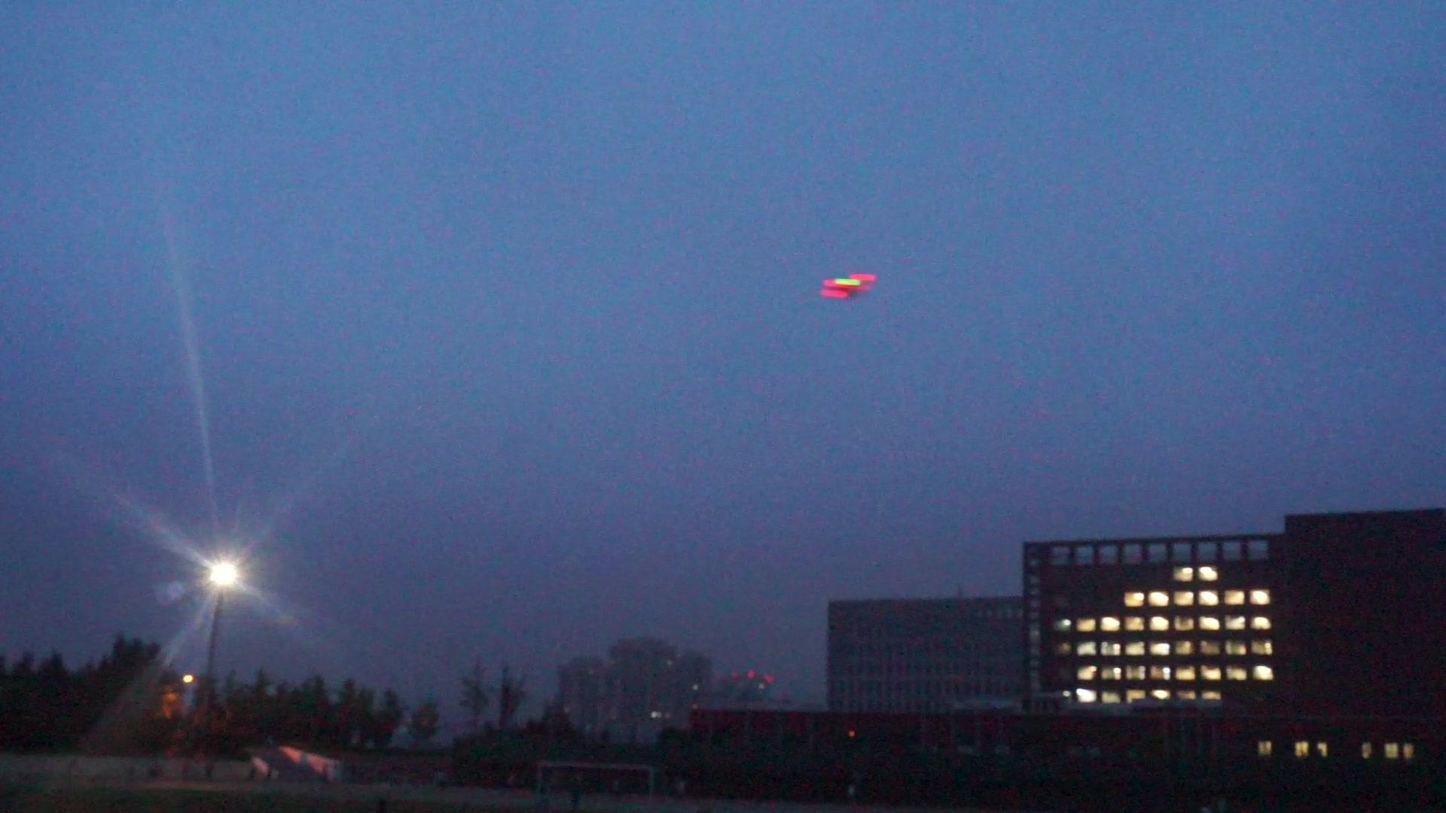UAV: (819, 273, 880, 299)
